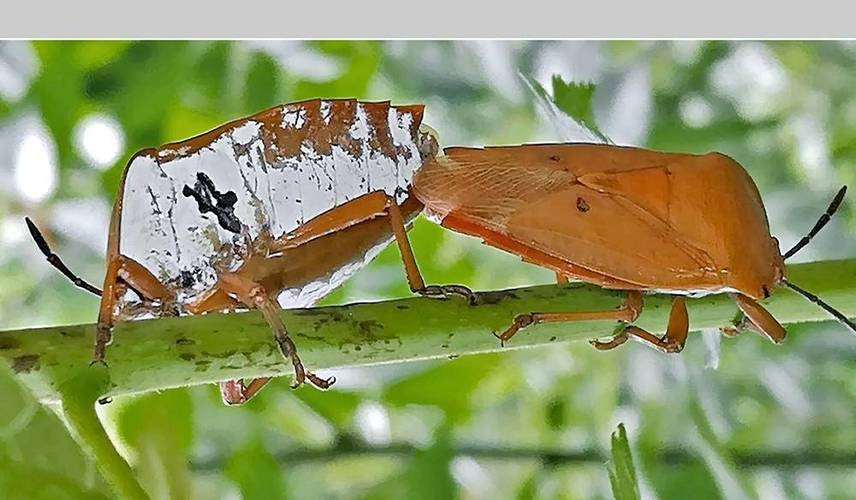Stink_Bug: (98, 97, 802, 338)
